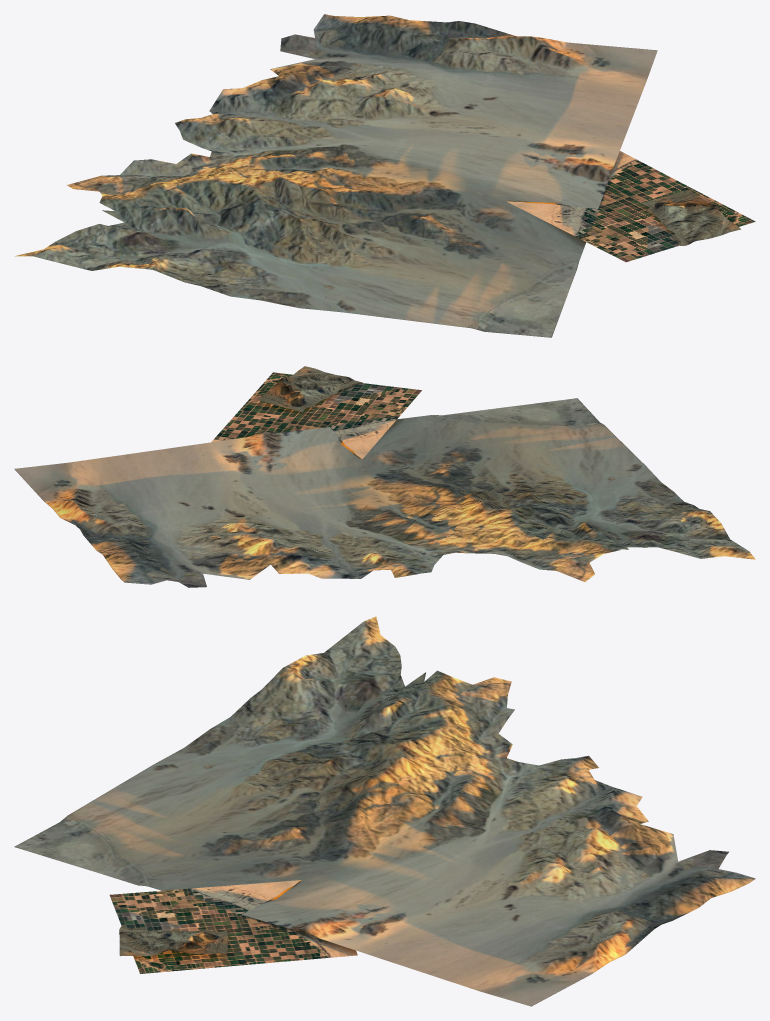
Rendered from yuma.glb.
3 views of the same model, one above another, from view 1: azimuth 30°, elevation 25°; view 2: azimuth 150°, elevation 25°; view 3: azimuth 270°, elevation 25° (orthographic). The views are drawn at different scales.
Parts seen in each view (by area): view 1: EXPORT_GOOGLE_SAT_WM.007; view 2: EXPORT_GOOGLE_SAT_WM.007; view 3: EXPORT_GOOGLE_SAT_WM.007.
Boxes of the visible parts, <box> form: EXPORT_GOOGLE_SAT_WM.007: <box>14,14,755,337</box>; EXPORT_GOOGLE_SAT_WM.007: <box>14,366,755,587</box>; EXPORT_GOOGLE_SAT_WM.007: <box>14,616,755,1006</box>.
Bounding box in the file's own units: 1958 × 123 × 1679.
Materials: 1 (1 with a texture image).
